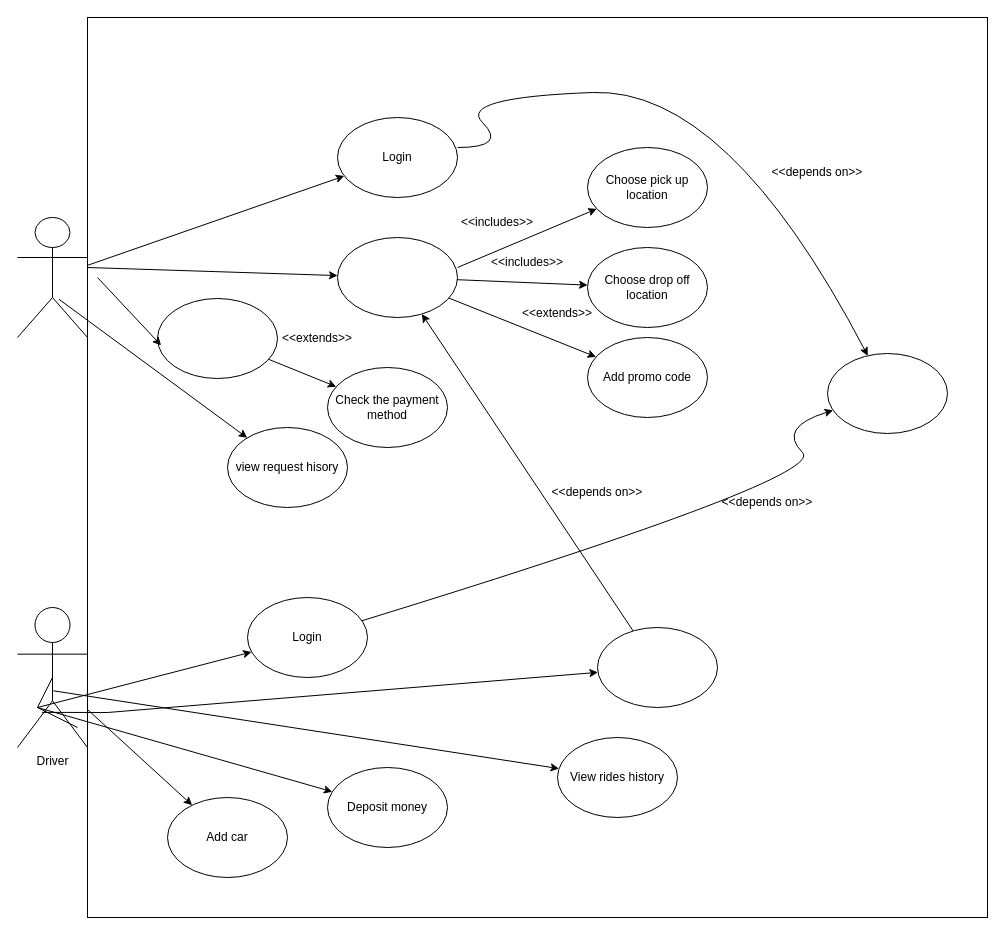
The diagram is 1005 pixels wide and 935 high, and some of its shapes have lost their labels. The box of each missing label's shape, as (x1, y1, x2, y2) in pixels:
Accept ride request: (596, 626, 718, 708)
Add payment method: (156, 298, 278, 378)
Check validaton: (826, 352, 948, 434)
customer: (16, 216, 88, 338)
Request a ride: (336, 236, 458, 318)
